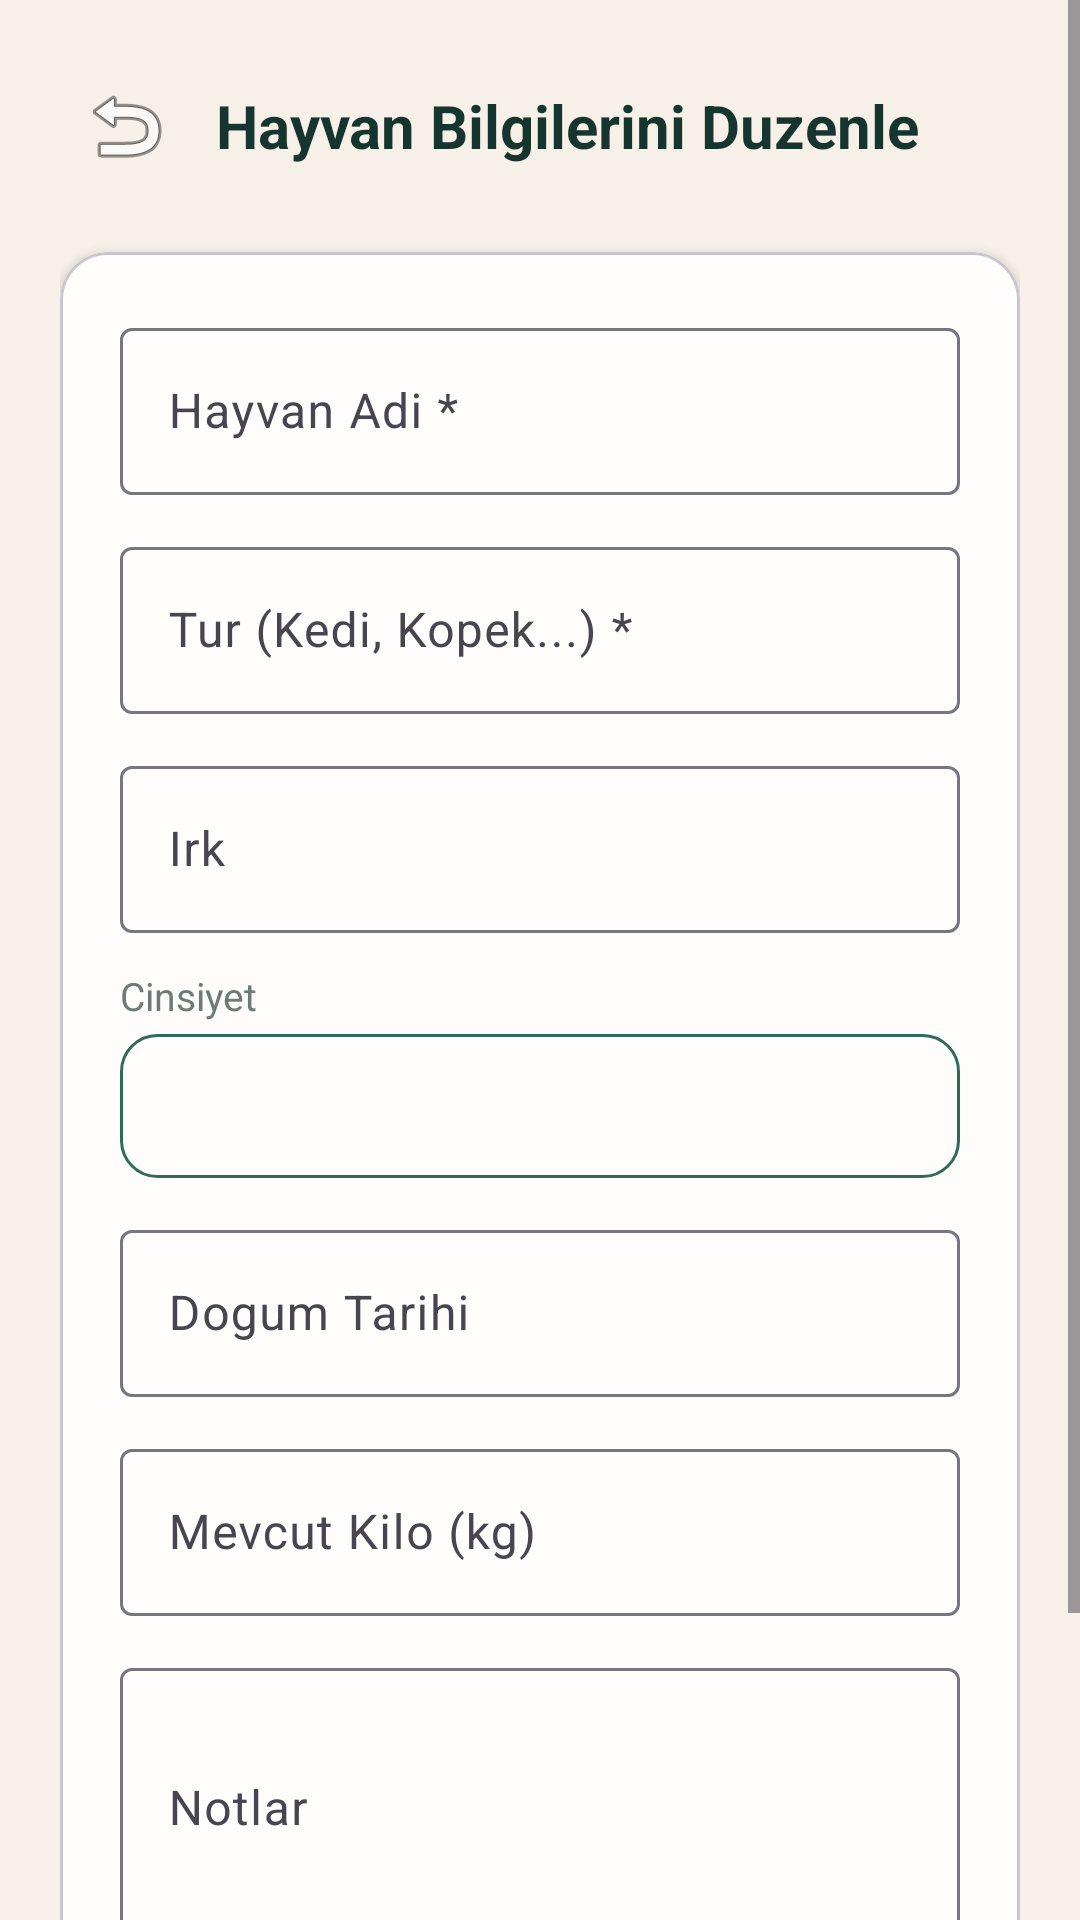

Icons on this 1080px x 1920px Android screen, each with its box as region(x1, y1, x2, y2):
Geri: region(93, 95, 162, 158)
